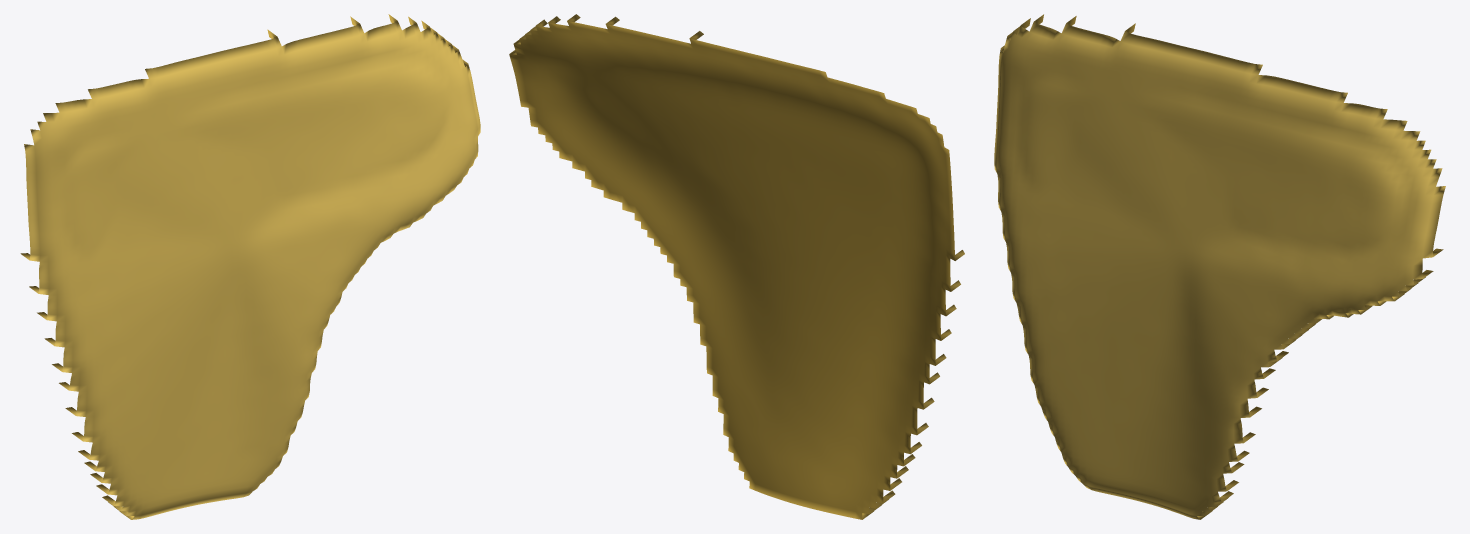
Rendered from PAIR-MET-BAR_LEFT_addon.glb.
3 views of the same model, side by side, from view 1: azimuth 30°, elevation 25°; view 2: azimuth 150°, elevation 25°; view 3: azimuth 330°, elevation 25° (orthographic). The views are drawn at different scales.
Visible parts, largest first — view 1: geometry_0; view 2: geometry_0; view 3: geometry_0.
Boxes of the visible parts, left/top/right/bottom form: geometry_0: left=20, top=14, right=480, bottom=519; geometry_0: left=509, top=14, right=964, bottom=519; geometry_0: left=994, top=14, right=1445, bottom=519.
Size of the model in its own units: 69 by 66 by 11.31.
